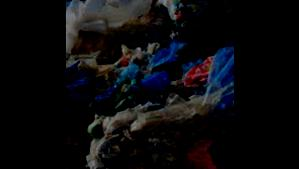Plastic: (90, 82, 234, 168), (65, 0, 159, 60)
